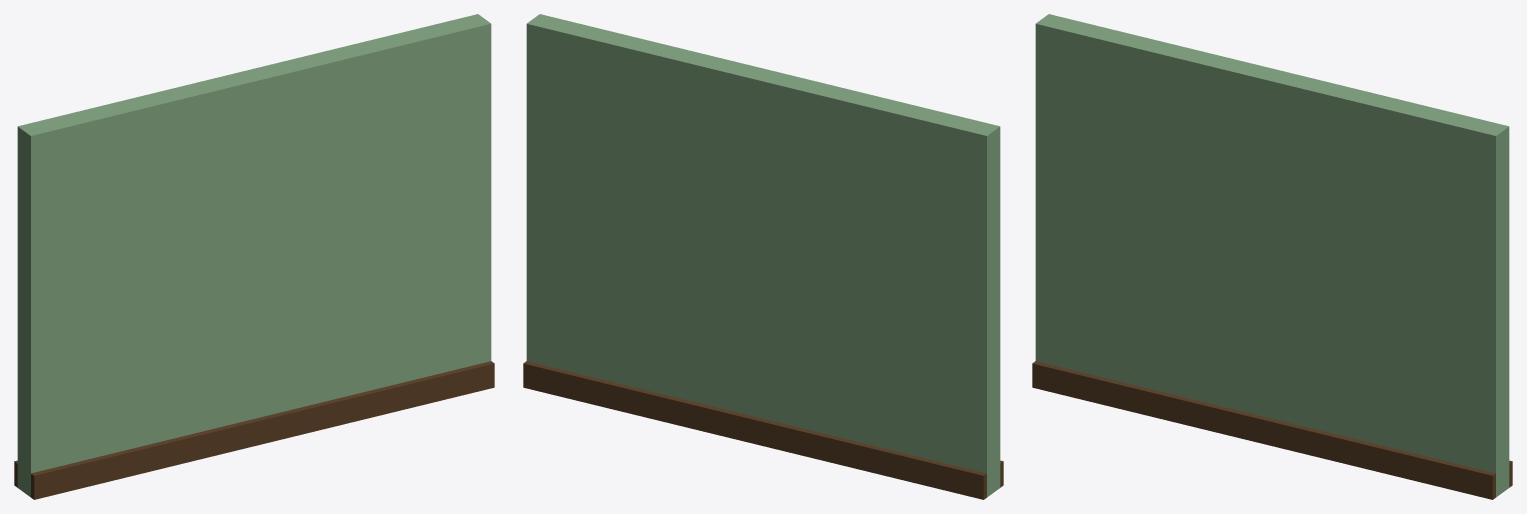
Rendered from h_wall_1.fbx.
The picture shows the model from 3 angles, left to right: view 1: azimuth 30°, elevation 25°; view 2: azimuth 150°, elevation 25°; view 3: azimuth 330°, elevation 25°; orthographic projection.
Visible parts, largest first — view 1: Cube; view 2: Cube; view 3: Cube.
Part boxes in pixels (left/top/right/bottom): Cube: left=14, top=14, right=494, bottom=499; Cube: left=523, top=14, right=1003, bottom=499; Cube: left=1032, top=14, right=1512, bottom=499.
Size of the model in its own units: 400 by 300 by 30.
